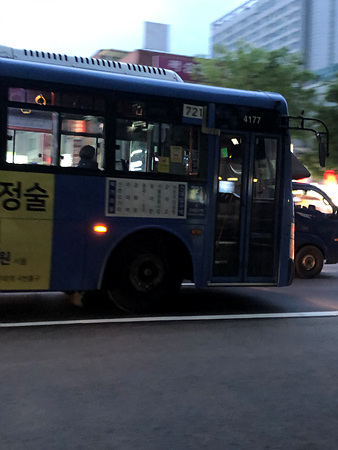entrance: (211, 126, 284, 288)
